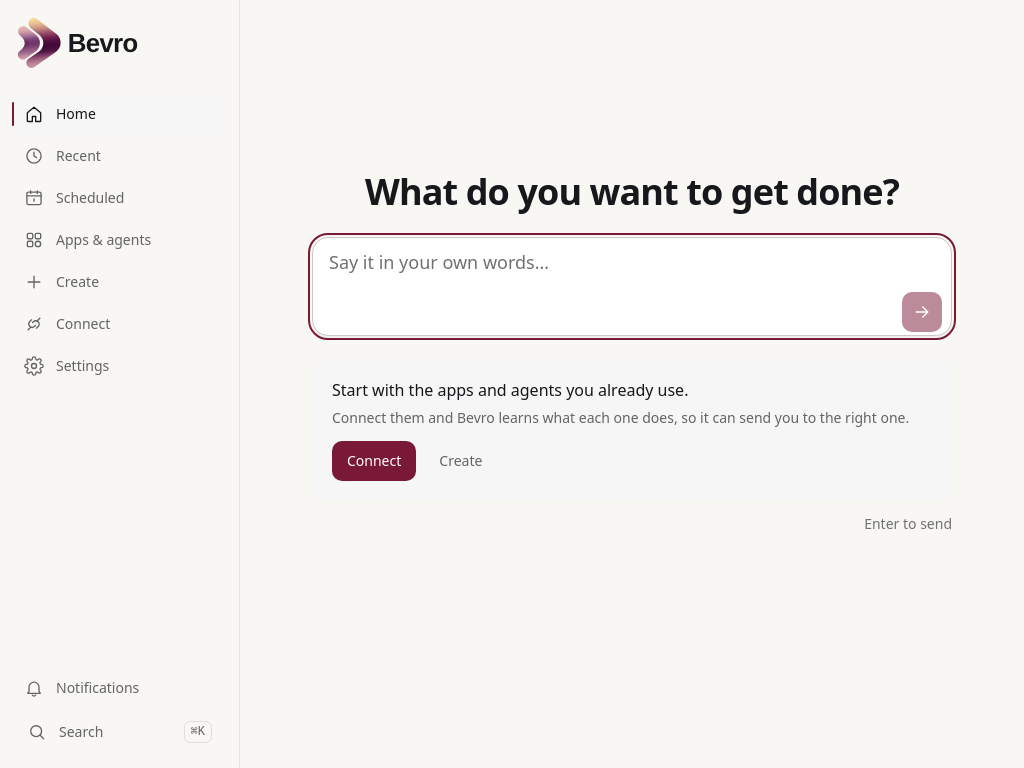
Test: home confirms repeating work instead of creating it silently
The image size is (1024, 768).
Type "Every Friday, research new competitors" into the text box named "What do you want to get done?" at [632, 286], box [312,237,952,336]
Then press Enter
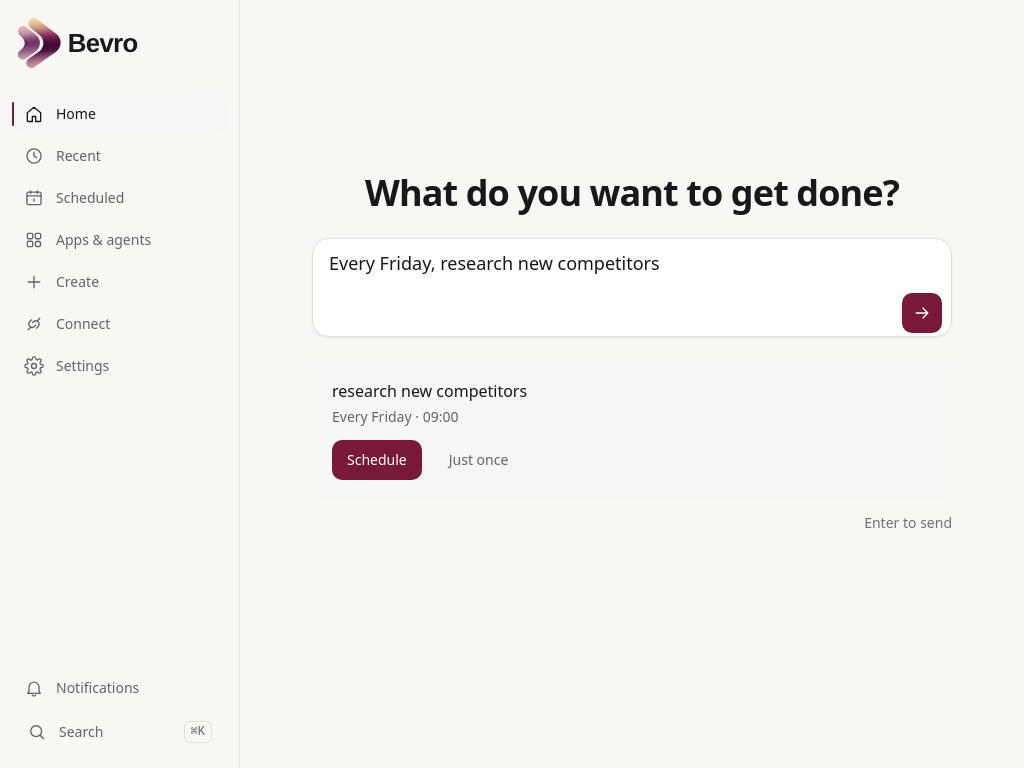
Expected: the text "Every Friday · 09:00" is shown, [332,407,458,426]
Click the button "Schedule" at [377, 460], box [332,440,422,480]
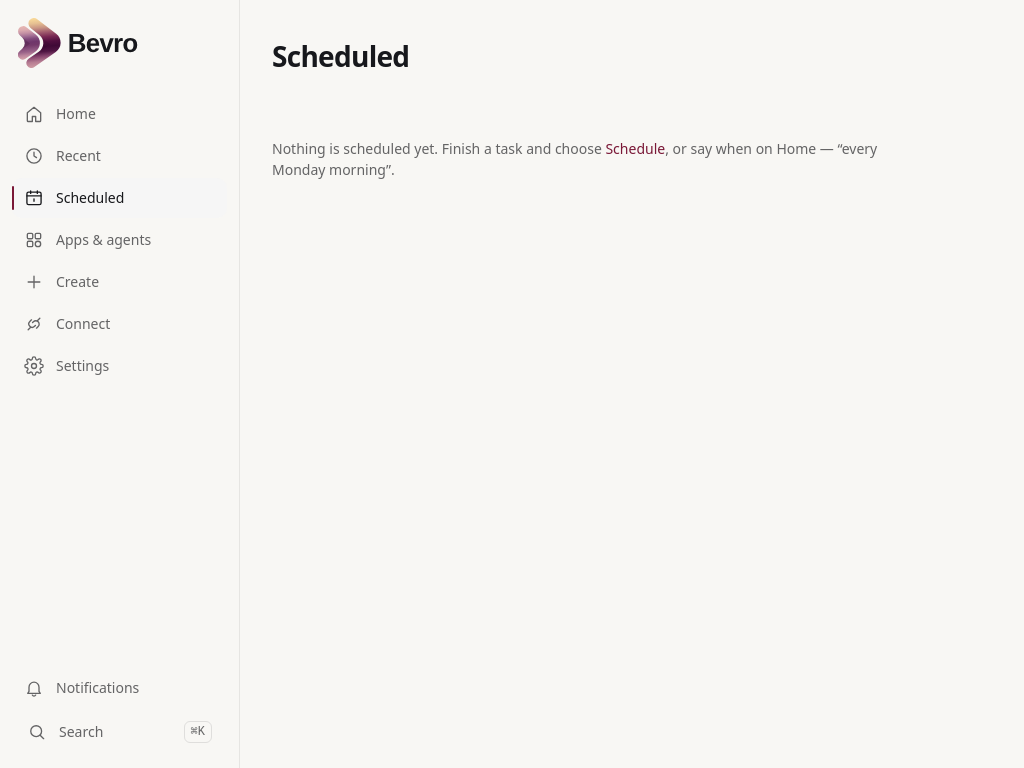
Expected: the heading "Scheduled" is shown, [272,40,409,74]
